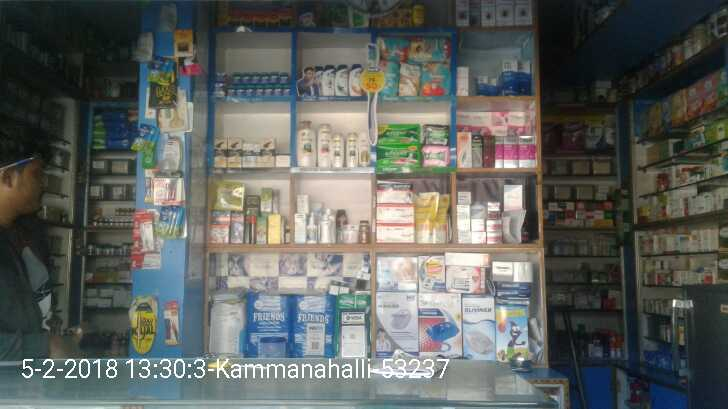beauty: (297, 120, 317, 167), (316, 122, 332, 168), (226, 136, 244, 168), (333, 66, 350, 97), (349, 64, 364, 96), (330, 133, 344, 166), (242, 144, 262, 167), (321, 65, 335, 94), (212, 140, 226, 168), (262, 137, 275, 166), (345, 135, 357, 166)
pharmacy: (374, 121, 422, 146), (374, 143, 421, 166), (421, 64, 448, 94), (399, 61, 420, 97), (377, 62, 398, 97), (422, 142, 449, 167), (231, 72, 241, 87), (259, 73, 269, 84), (281, 84, 291, 95), (250, 72, 259, 83), (268, 73, 277, 84), (241, 74, 250, 84), (245, 87, 254, 96), (265, 86, 273, 96), (236, 86, 244, 96), (273, 86, 281, 95), (280, 75, 288, 83), (258, 88, 264, 97)
